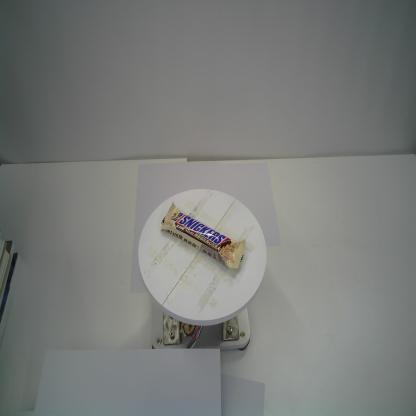Chocolate: (159, 200, 247, 271)
